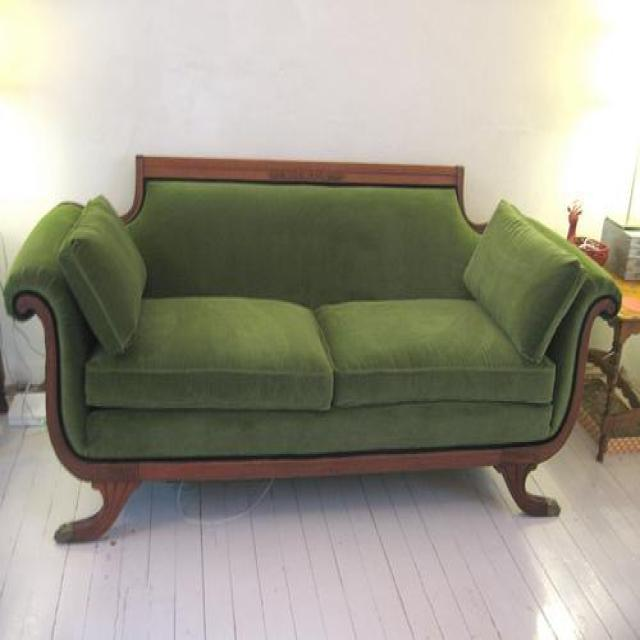sofa: (4, 153, 623, 547)
